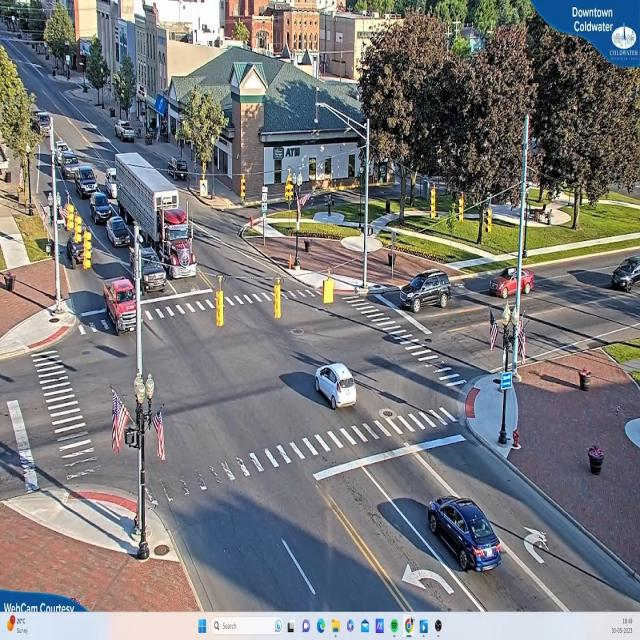car: (357, 492, 519, 596), (421, 498, 504, 575), (314, 362, 357, 410), (106, 277, 139, 335), (404, 273, 453, 310), (610, 256, 640, 291), (67, 229, 91, 267), (91, 191, 112, 224), (76, 165, 97, 196)
